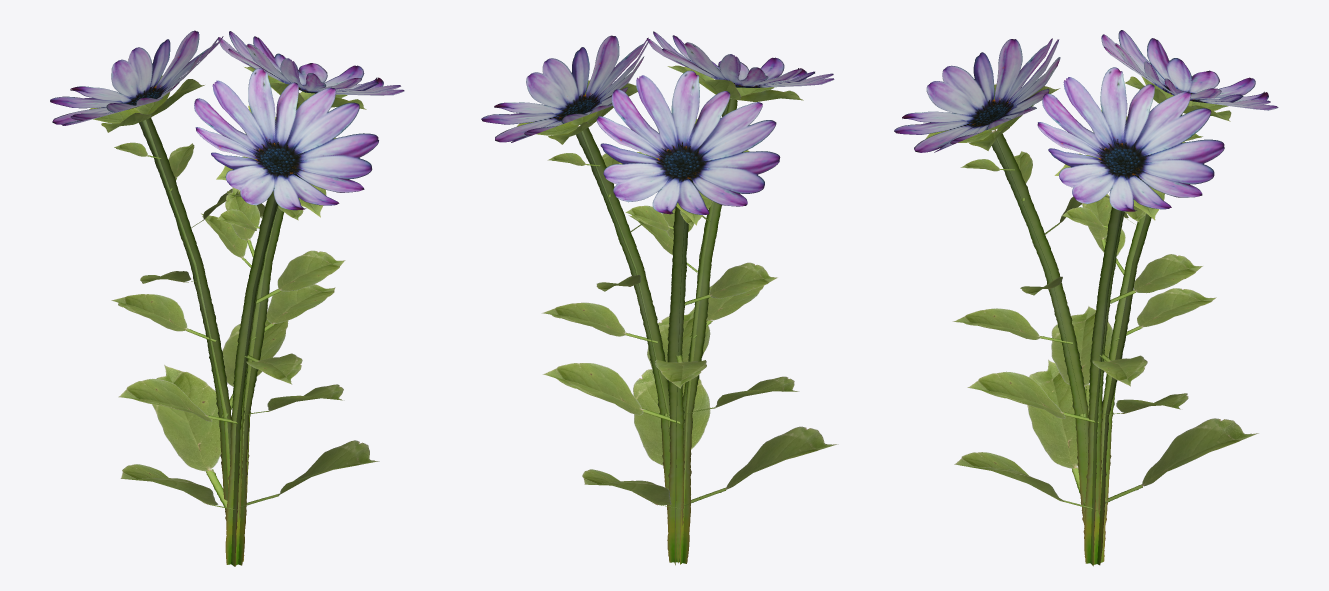
The model's file is VioletFlower_2.fbx.
3 views of the same model, side by side, from view 1: azimuth 30°, elevation 25°; view 2: azimuth 150°, elevation 25°; view 3: azimuth 270°, elevation 25° (orthographic).
Parts seen in each view (by area): view 1: VioletFlower_2; view 2: VioletFlower_2; view 3: VioletFlower_2.
Boxes of the visible parts, box(x1,y1,x2,y2) form: VioletFlower_2: box(50, 30, 404, 566); VioletFlower_2: box(481, 31, 838, 565); VioletFlower_2: box(894, 30, 1278, 566).
Size of the model in its own units: 0.2284 by 0.308 by 0.2323.
